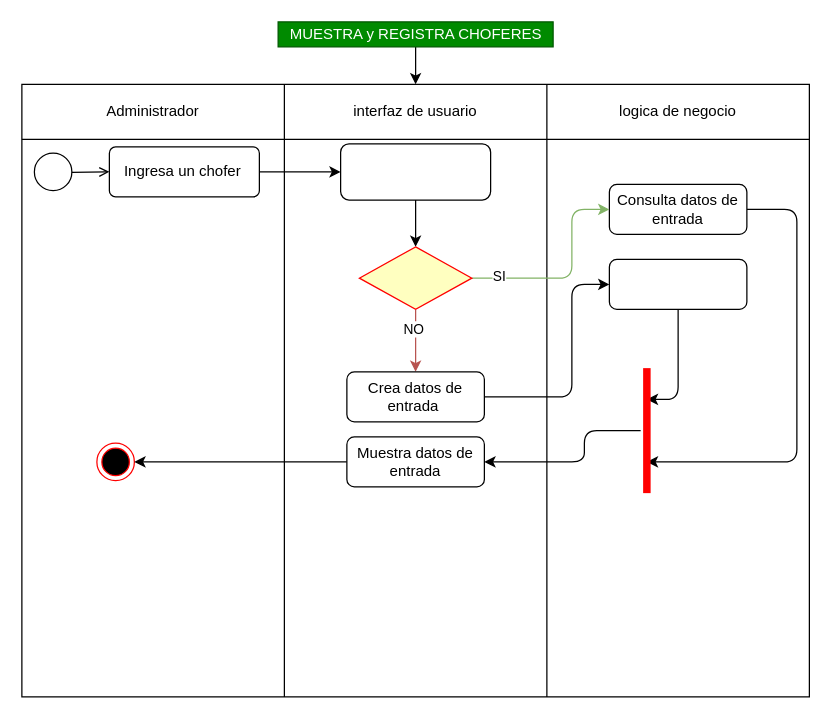
The diagram is 831 pixels wide and 719 high, and some of its shapes have lost their labels. The shapes that lost their labels are listed below. From the top down, each one's box as (x1, y1, x2, y2) in pixels, then its label:
(339, 142, 491, 200): Ingresa datos de entrada
(358, 246, 472, 309): Existe
(608, 258, 747, 309): Almacena datos de entrada
